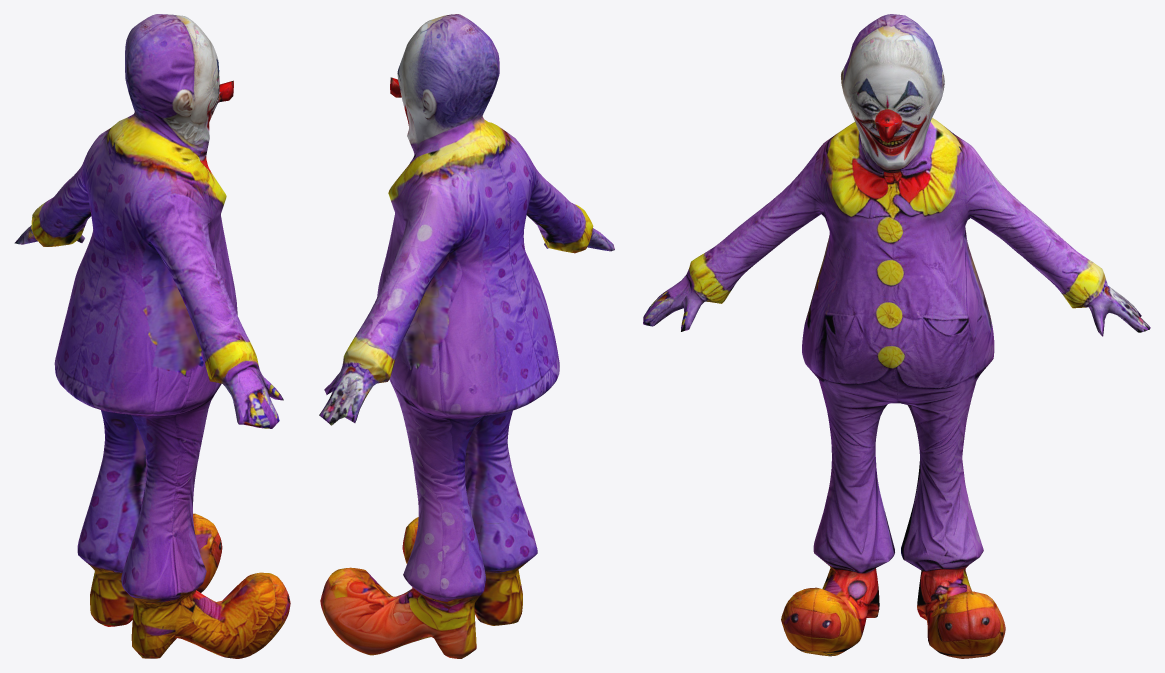
The model's file is A_creepy_clown_who_has_a_creepy_smile_full_body_0424190806_refine.fbx.
3 views of the same model, side by side, from view 1: azimuth 30°, elevation 25°; view 2: azimuth 150°, elevation 25°; view 3: azimuth 270°, elevation 25° (orthographic).
Visible parts, largest first — view 1: Mesh_0; view 2: Mesh_0; view 3: Mesh_0.
Part boxes in pixels (x1,y1,x2,y2): Mesh_0: (14, 14, 290, 658); Mesh_0: (319, 14, 614, 658); Mesh_0: (643, 14, 1150, 658).
Size of the model in its own units: 36.78 by 120 by 88.88.
Materials: 1 (1 with a texture image).
